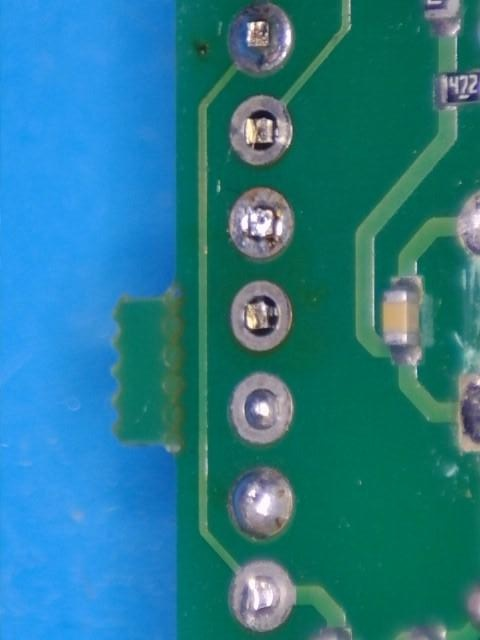pcb_defect: (229, 189, 292, 260), (231, 375, 293, 447), (230, 468, 292, 539)
